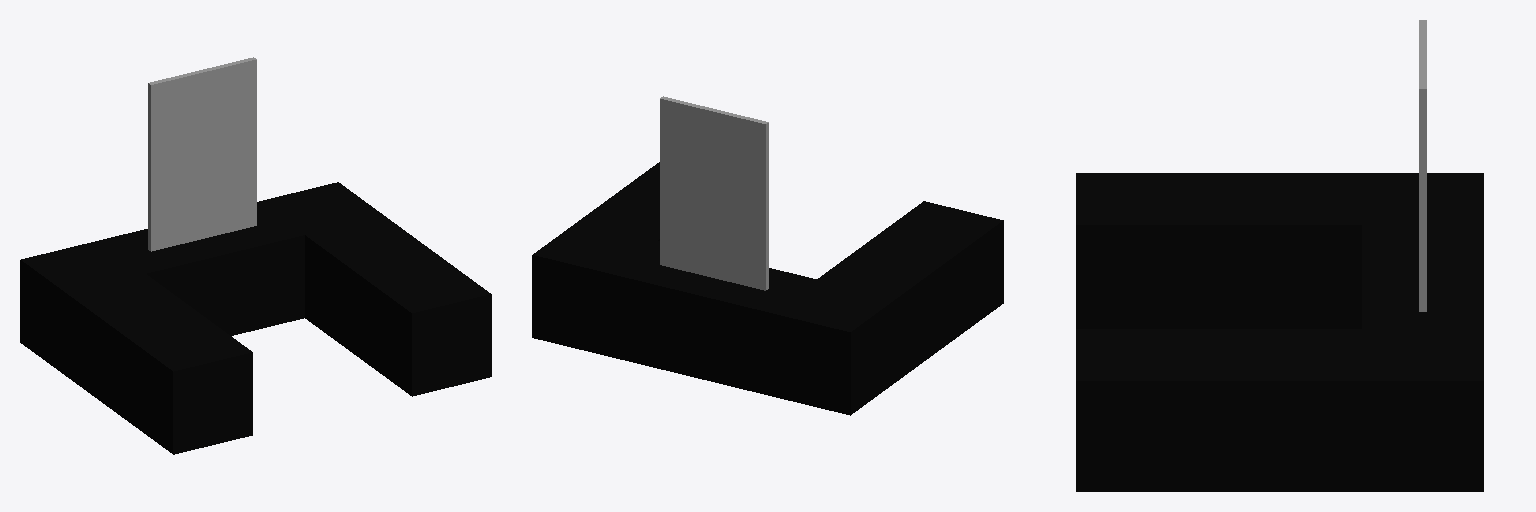
URDF robot description (robot):
<?xml version='1.0'?>
<robot>
  <link name="base_link">
    <visual>
      <geometry>
       <mesh filename="package://ros_ship_description/world/others/mesh/DOCK.dae"/>
      </geometry>
    </visual>
    <collision name="base_link_collision">
      <geometry>
        <mesh filename="package://ros_ship_description/world/others/mesh/DOCK.dae"/>
      </geometry>
    </collision>
    <inertial>
      <mass value="1"/>
      <inertia ixx="0.0" ixy="0.0" ixz="0.0" iyy="0.0" iyz="0.0" izz="0.0"/>
    </inertial>
  </link>

  <link name="top_link">
    <inertial>
      <mass value="1"/>
      <inertia ixx="0.0" ixy="0.0" ixz="0.0" iyy="0.0" iyz="0.0" izz="0.0"/>
    </inertial>
  </link>

  <joint name="base_link_joint" type="fixed">
    <origin xyz="0 0 0.1"/>
    <parent link="top_link"/>
    <child link="base_link"/>
  </joint>

  <gazebo>
    <static>true</static>
  </gazebo>
</robot>

--- Render facts (derived) ---
3 views of the same robot in one strip: view 1: azimuth 30°, elevation 25°; view 2: azimuth 150°, elevation 25°; view 3: azimuth 270°, elevation 25° (orthographic).
Model robot with 2 links and 1 joints (1 fixed), rooted at top_link, posed every joint at zero.
Links seen in each view (by area): view 1: base_link; view 2: base_link; view 3: base_link.
Boxes of the visible links, x1,y1,x2,y2 form: base_link: (20,57,491,454); base_link: (532,96,1003,415); base_link: (1076,20,1483,491).
Size in the robot's own frame: 12 by 10 by 9 metres.
1 mesh visuals loaded from 1 distinct referenced files (1 Collada DAE).